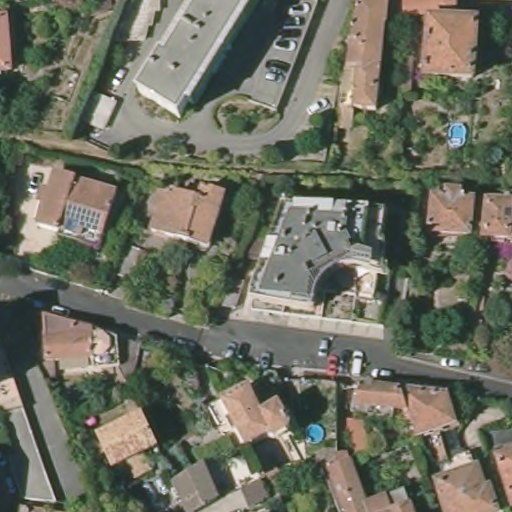pool: (447, 122, 469, 147), (304, 423, 325, 445)
